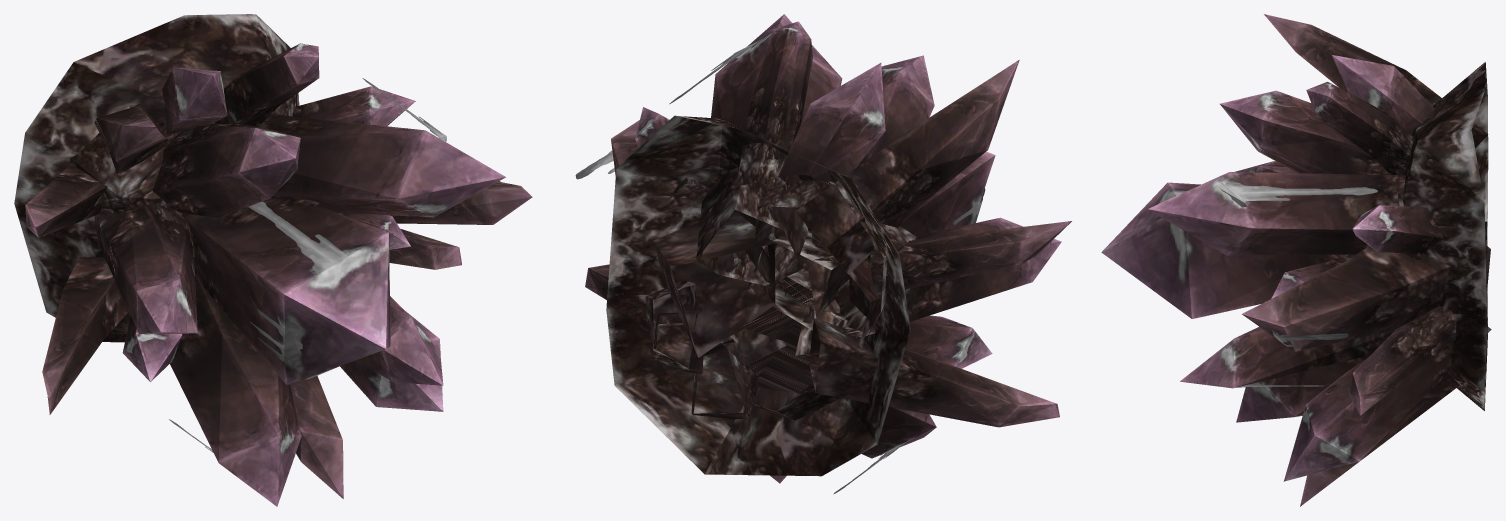
The model's file is guild_kuangshi.obj.
The picture shows the model from 3 angles, left to right: view 1: azimuth 30°, elevation 25°; view 2: azimuth 150°, elevation 25°; view 3: azimuth 270°, elevation 25°; orthographic projection. The views are drawn at different scales.
Visible parts, largest first — view 1: Guild_Kuangshi; view 2: Guild_Kuangshi; view 3: Guild_Kuangshi.
Part boxes in pixels (x1=…): Guild_Kuangshi: x1=14, y1=14, x2=532, y2=506; Guild_Kuangshi: x1=575, y1=14, x2=1071, y2=494; Guild_Kuangshi: x1=1101, y1=14, x2=1491, y2=506.
Size of the model in its own units: 140 by 131 by 112.
Materials: 1 (1 with a texture image).
